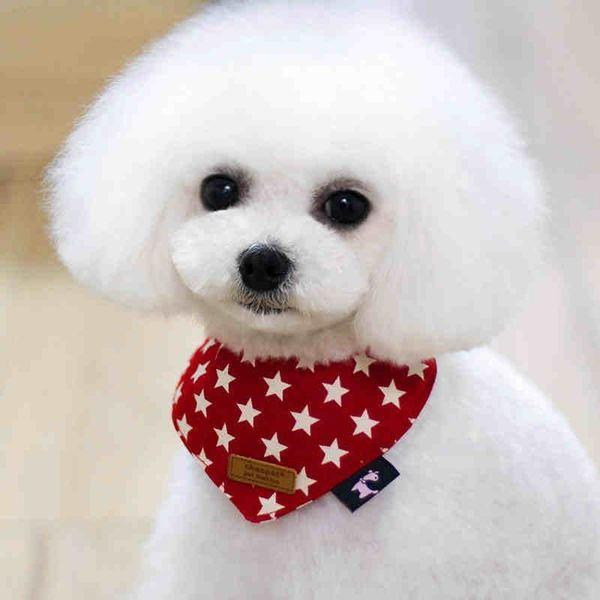dog: (43, 3, 595, 596)
